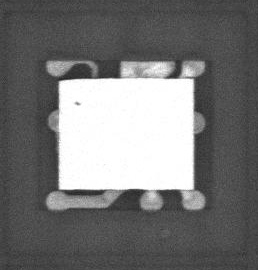DIE_INK: (69, 105, 78, 111)
